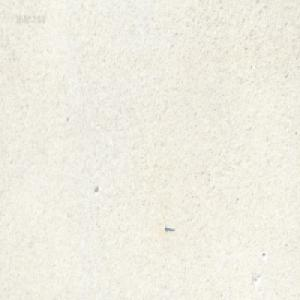Nail: (164, 225, 175, 232)
